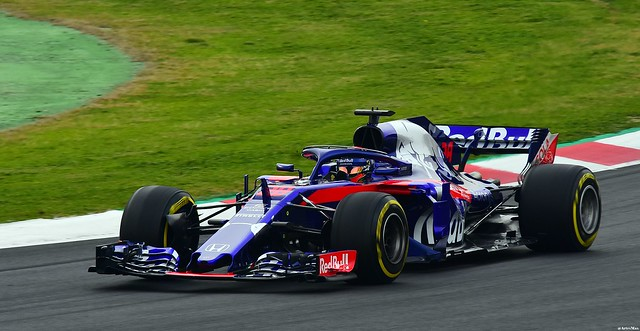F1 Car: (87, 108, 607, 287)
